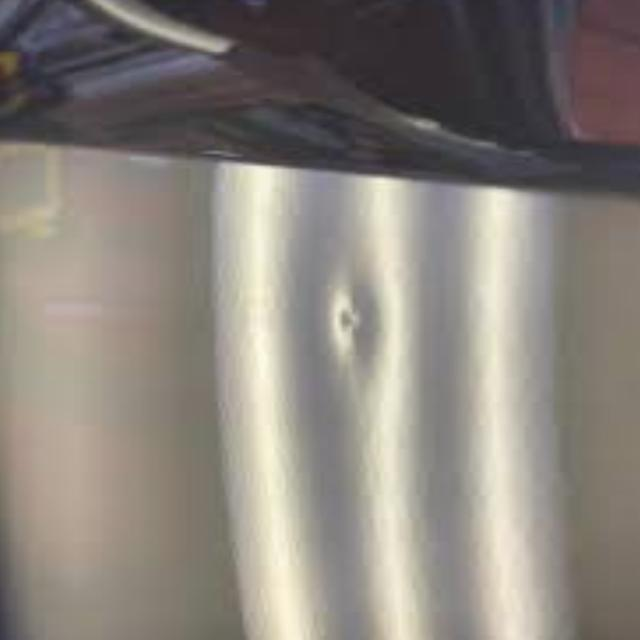dents: (300, 254, 407, 411)
